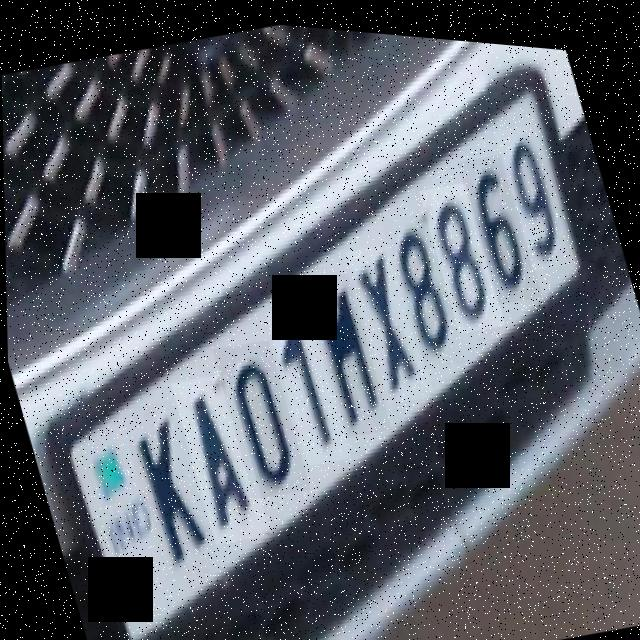0: (219, 336, 303, 492)
1: (270, 301, 344, 457)
6: (463, 146, 535, 293)
8: (424, 176, 498, 323), (387, 208, 457, 360)
9: (499, 116, 568, 259)
A: (176, 373, 260, 538)
K: (123, 399, 212, 573)
M: (309, 267, 383, 429)
X: (352, 238, 426, 397)
